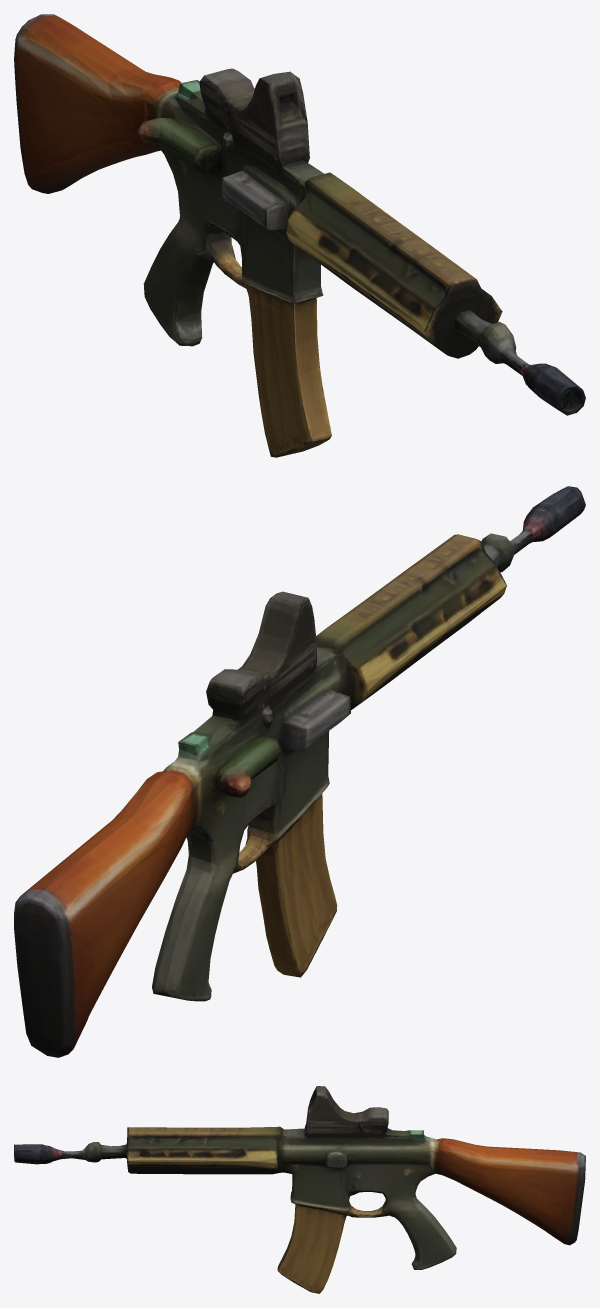
Rendered from carbine.glb.
The picture shows the model from 3 angles, top to bottom: view 1: azimuth 30°, elevation 25°; view 2: azimuth 150°, elevation 25°; view 3: azimuth 270°, elevation 25°; orthographic projection. The views are drawn at different scales.
Visible parts, largest first — view 1: geometry_0; view 2: geometry_0; view 3: geometry_0.
Part boxes in pixels (<box>): geometry_0: <box>14,14,585,457</box>; geometry_0: <box>14,486,585,1057</box>; geometry_0: <box>14,1086,585,1293</box>.
Size of the model in its own units: 0.1005 by 0.3893 by 0.999.
1 material, 1 textured.
